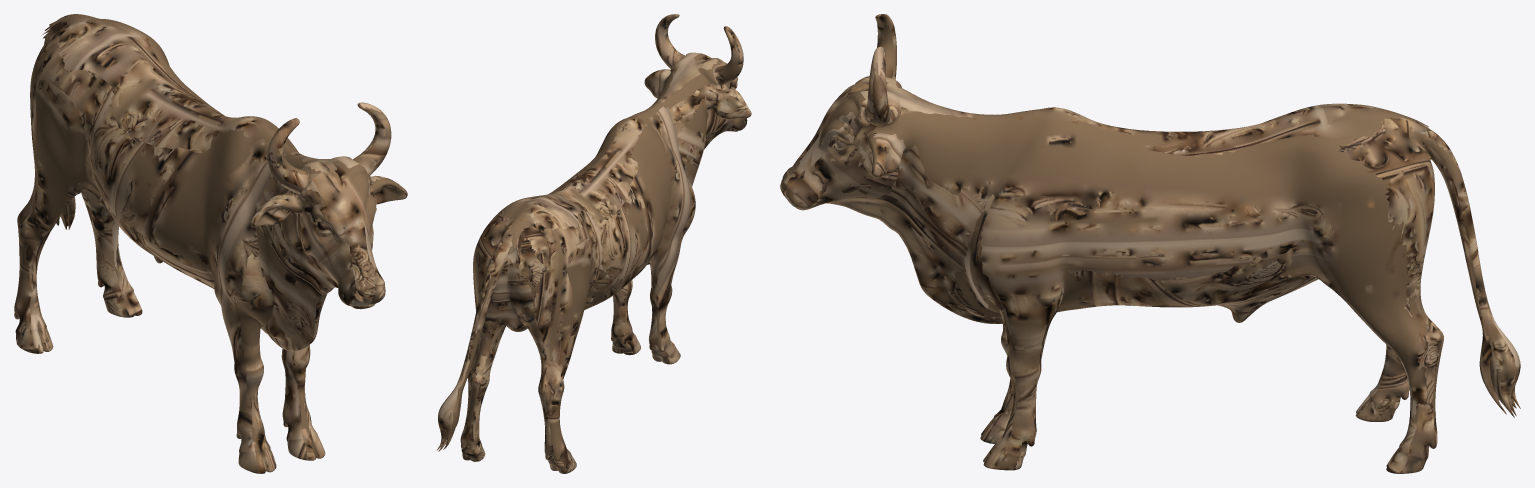
The model's file is bull.fbx.
3 views of the same model, side by side, from view 1: azimuth 30°, elevation 25°; view 2: azimuth 150°, elevation 25°; view 3: azimuth 270°, elevation 25° (orthographic). The views are drawn at different scales.
Parts seen in each view (by area): view 1: bull; view 2: bull; view 3: bull.
Boxes of the visible parts, left/top/right/bottom form: bull: left=14, top=14, right=407, bottom=473; bull: left=436, top=14, right=751, bottom=473; bull: left=780, top=14, right=1520, bottom=473.
Bounding box in the file's own units: 240 × 614 × 993.
